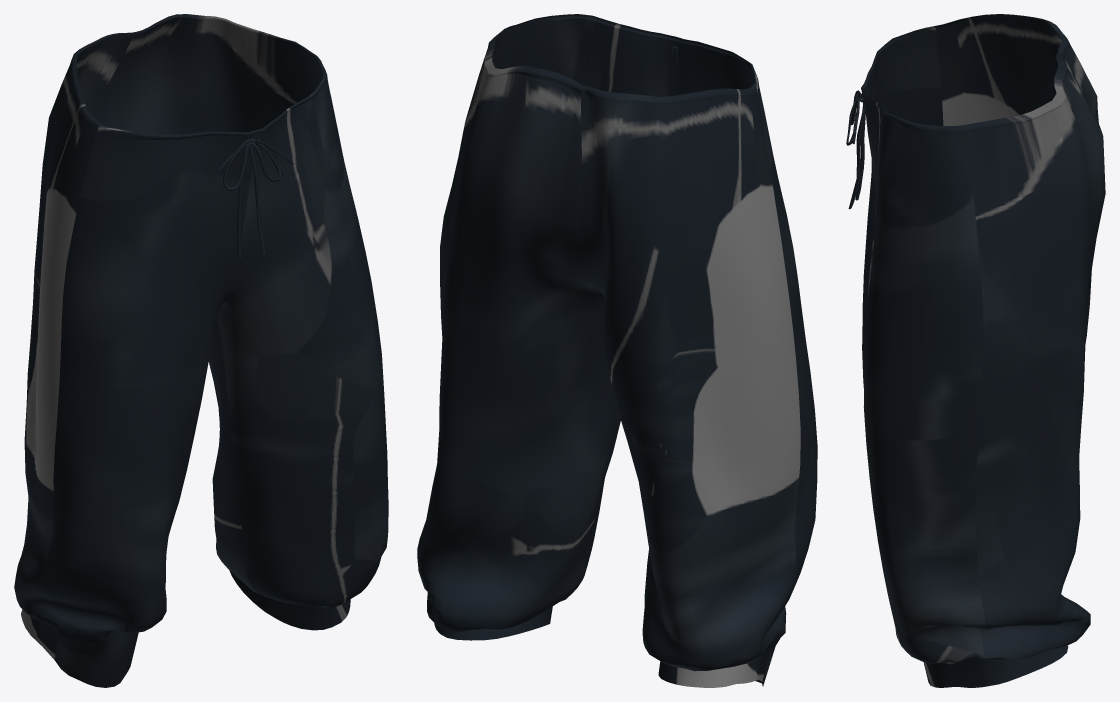
File: short.fbx
3 views of the same model, side by side, from view 1: azimuth 30°, elevation 25°; view 2: azimuth 150°, elevation 25°; view 3: azimuth 270°, elevation 25° (orthographic). The views are drawn at different scales.
Parts seen in each view (by area): view 1: short; view 2: short; view 3: short.
Boxes of the visible parts, left/top/right/bottom form: short: left=14, top=14, right=388, bottom=687; short: left=417, top=14, right=817, bottom=687; short: left=846, top=14, right=1105, bottom=687.
Bounding box in the file's own units: 38.95 × 66.66 × 26.9.
